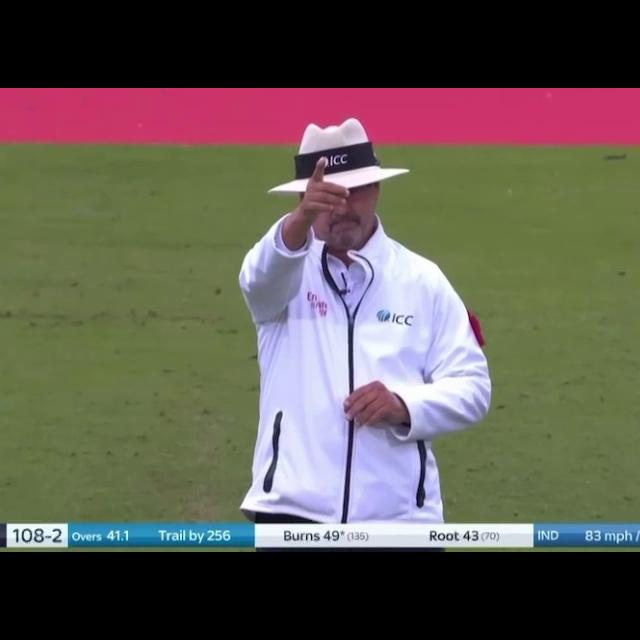umpire: (225, 100, 492, 521)
